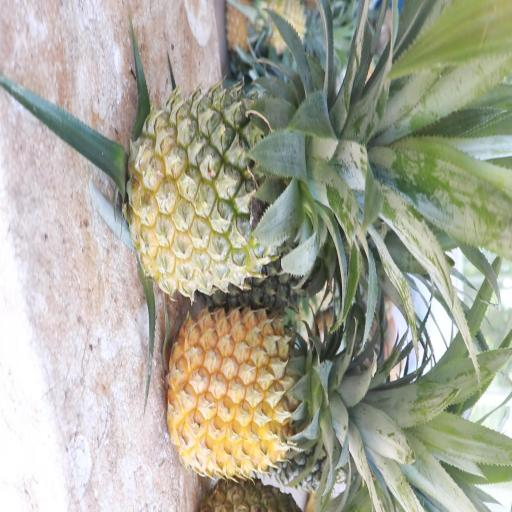------------------------------: (134, 93, 324, 291)
Pineapple - v8 v1: (172, 309, 351, 482)
